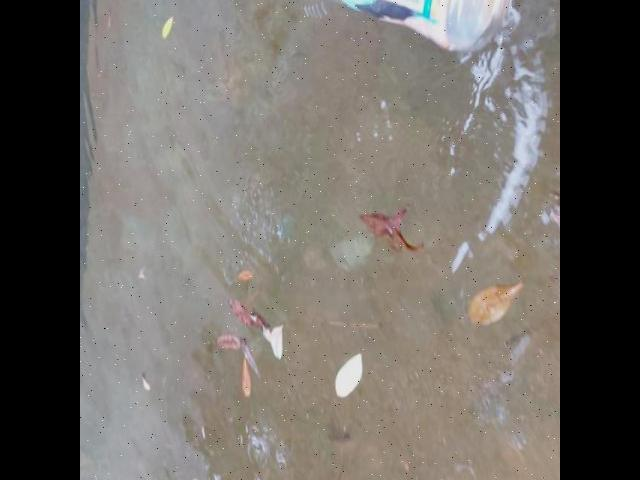Bottle: (229, 0, 521, 87)
